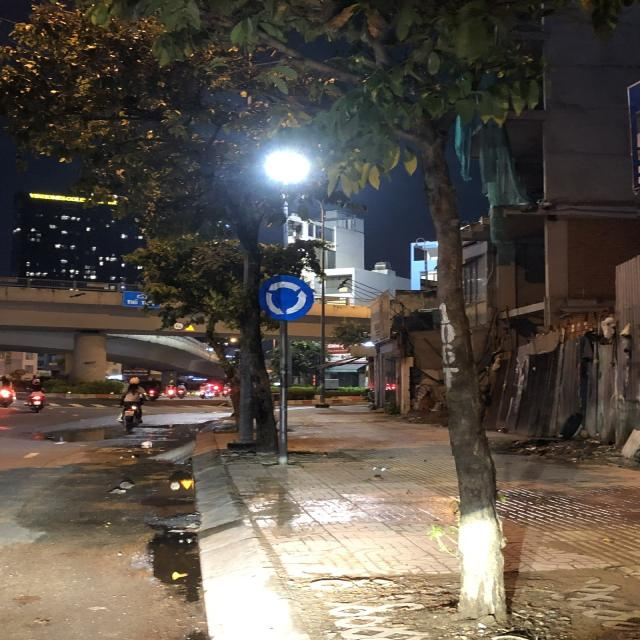Bien bao noi giao nhau chay theo vong xuyen: (253, 269, 319, 323)
